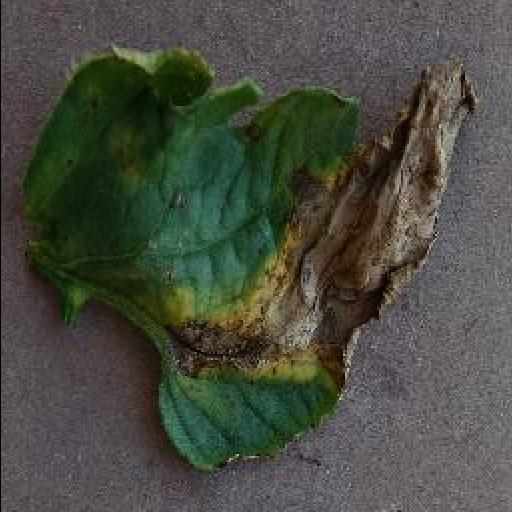disease_tomato: (12, 50, 476, 474)
